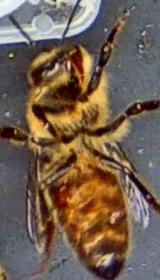varroa_mite: (49, 174, 73, 214)
